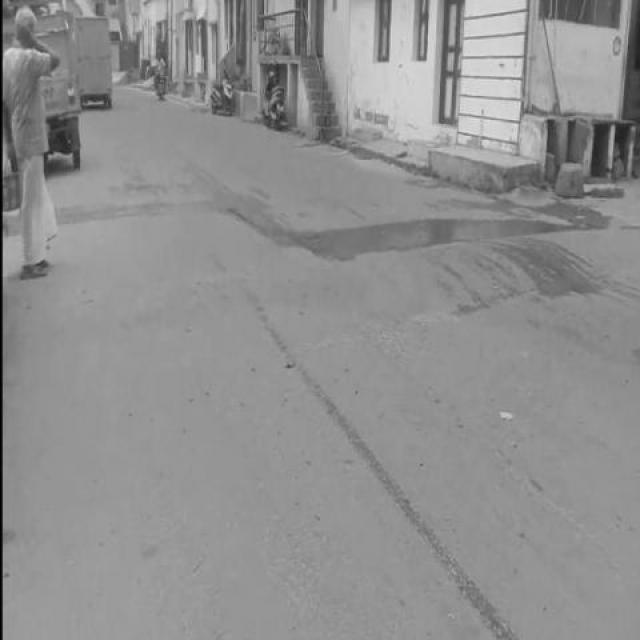Unmarked Bump: (129, 222, 636, 329)
